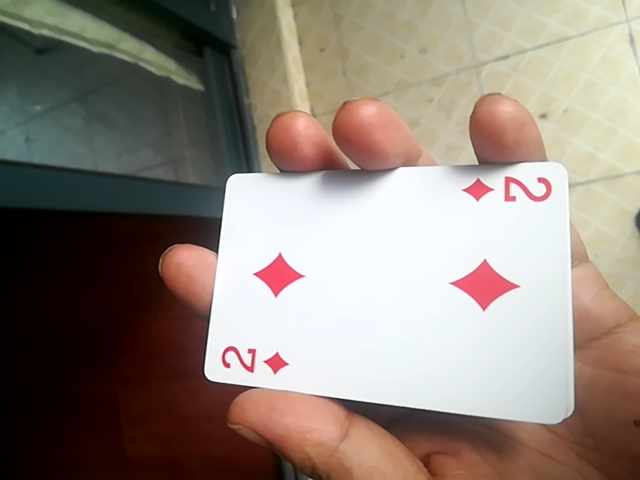fk 2: (202, 158, 573, 430)
